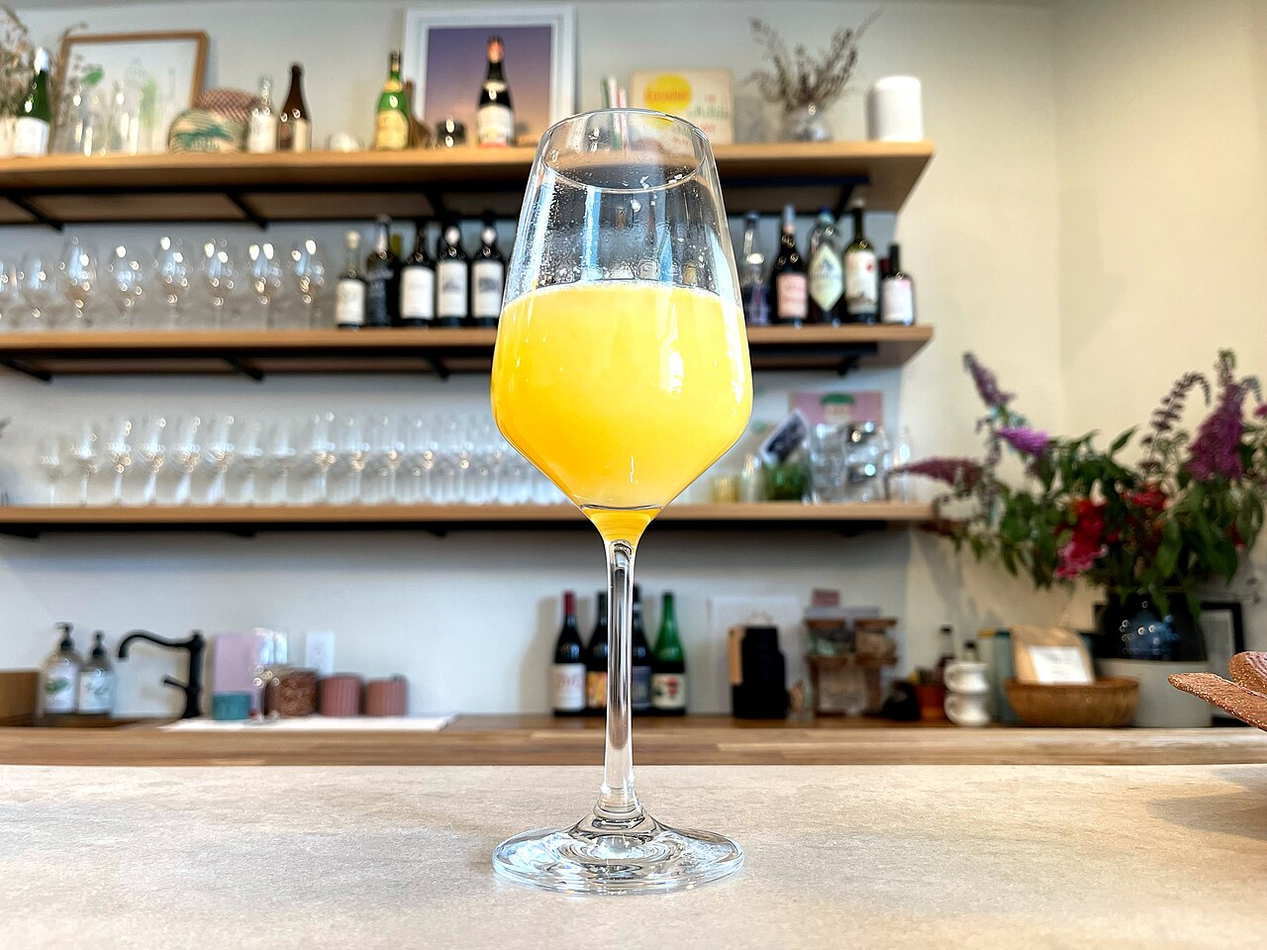unknown_bottle: (12, 47, 55, 158), (650, 591, 687, 718), (771, 202, 808, 326), (807, 207, 845, 326), (551, 590, 586, 719), (842, 203, 879, 325), (38, 623, 83, 720), (476, 36, 515, 147), (469, 211, 505, 329), (364, 214, 401, 327), (399, 219, 436, 327), (435, 220, 470, 328), (739, 212, 771, 327), (373, 52, 409, 150), (334, 229, 367, 330), (79, 631, 116, 719), (277, 63, 312, 153), (584, 589, 609, 715), (879, 243, 916, 326), (632, 594, 653, 716)
